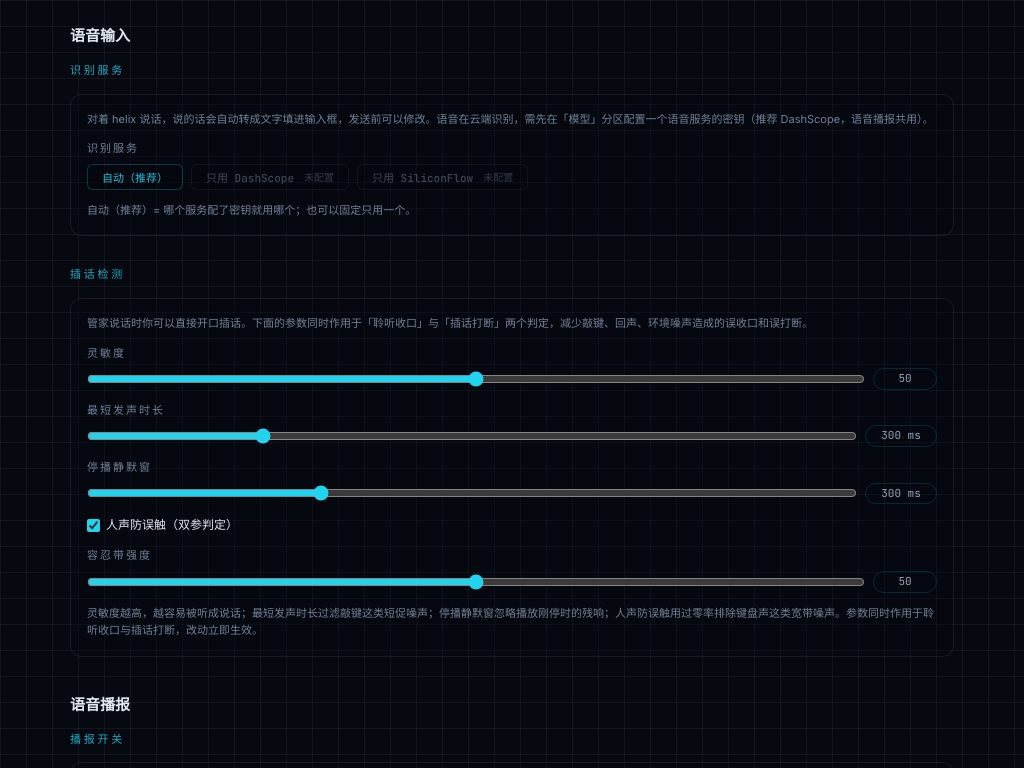
Test: VoiceSettingsSection B3 插话检测参数组（回声防线） › 双参开关 checkbox 写偏好（关=落键 0 / 开=移除）+ 容忍带滑条 disabled 联动
This screenshot has width=1024, height=768.
Expected: the slider labelled "容忍带强度" is enabled, [87,574,865,590]
Click the checkbox labelled "人声防误触（双参判定）": (94, 526) [87,519,100,532]
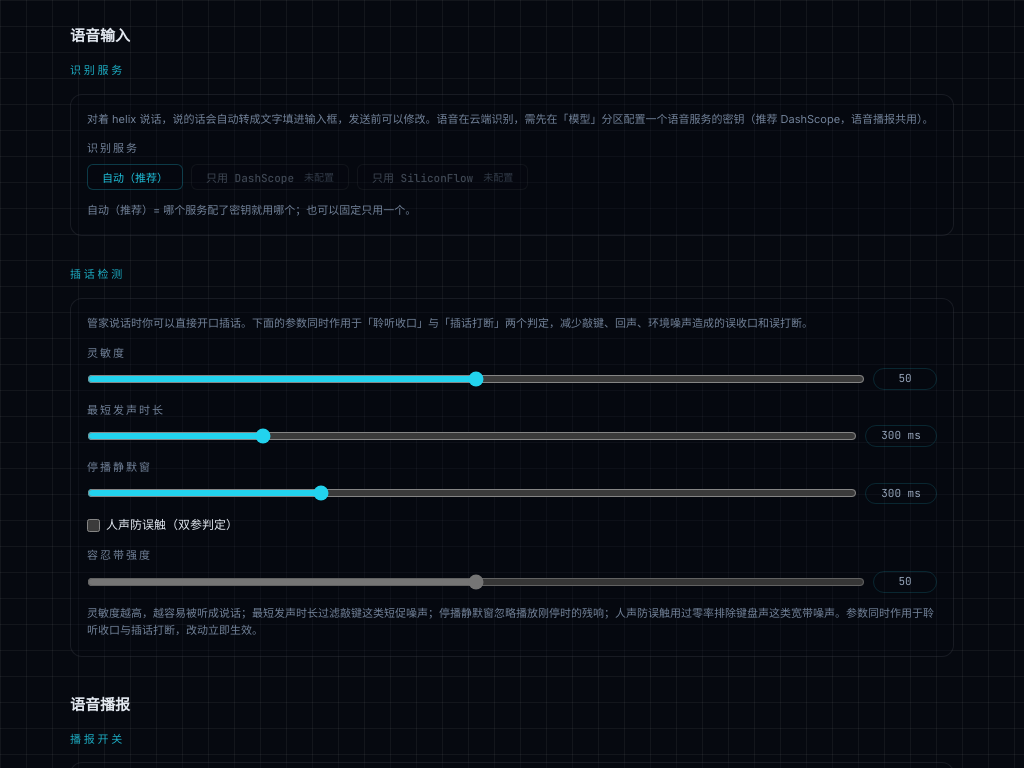
Expected: the slider labelled "容忍带强度" is disabled, [87,574,865,590]
Click the checkbox labelled "人声防误触（双参判定）": (94, 526) [87,519,100,532]
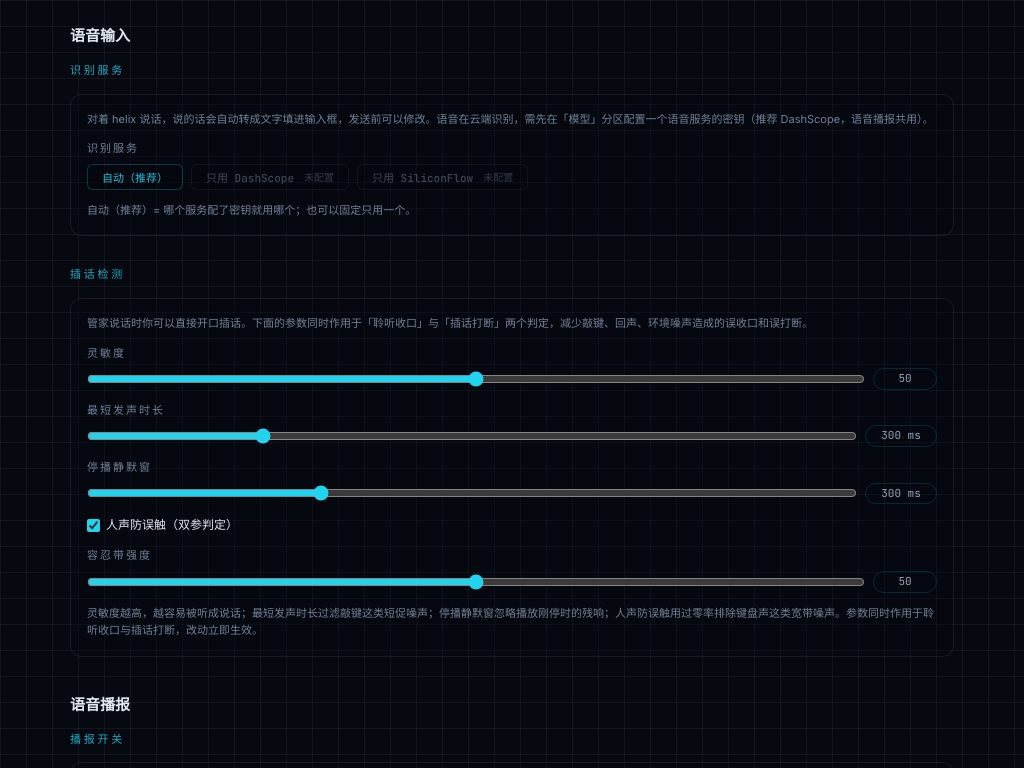
Expected: the slider labelled "容忍带强度" is enabled, [87,574,865,590]
